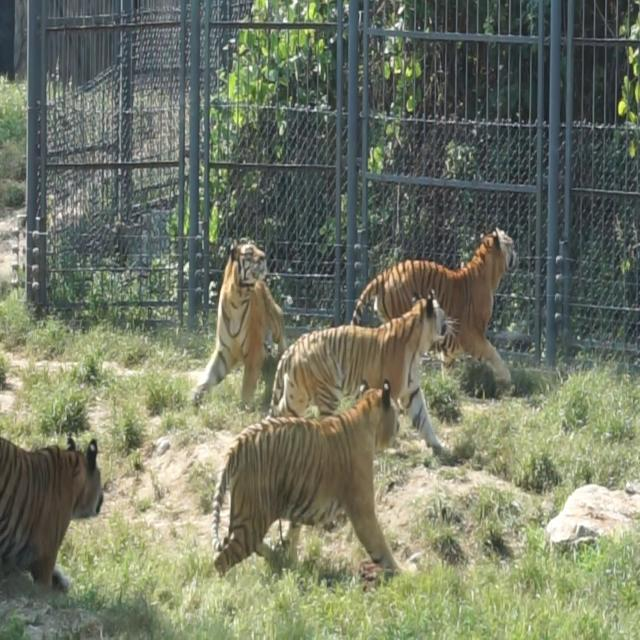Tiger: (197, 377, 413, 598), (264, 292, 454, 458), (348, 228, 519, 398), (183, 233, 287, 405), (0, 432, 105, 586)
